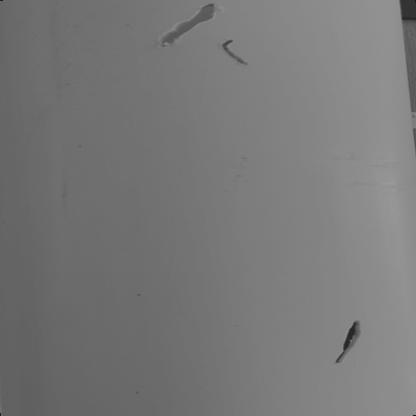fengxi: (159, 1, 215, 50), (222, 37, 252, 64)
kongdong: (336, 318, 361, 366)
